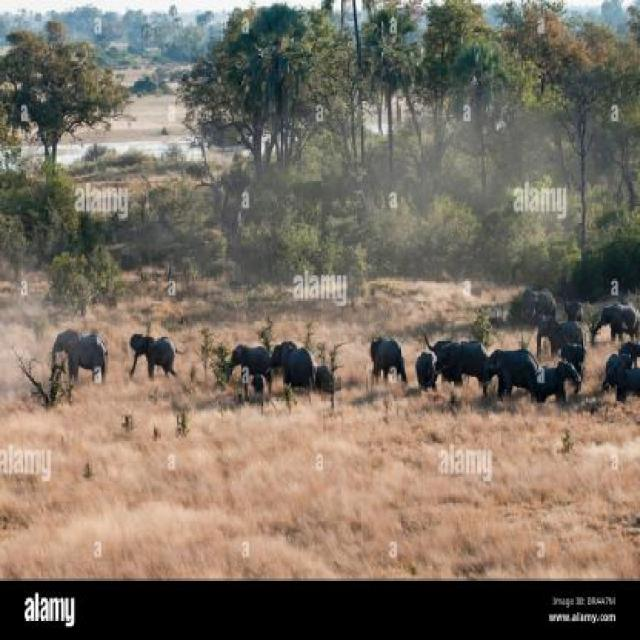elephant: (416, 318, 487, 390), (51, 322, 118, 382), (491, 348, 554, 410), (532, 309, 592, 360), (509, 278, 568, 328), (370, 316, 415, 379), (279, 324, 315, 399), (137, 318, 181, 379), (410, 347, 447, 408), (542, 355, 581, 410), (227, 328, 268, 379), (592, 300, 640, 342)
